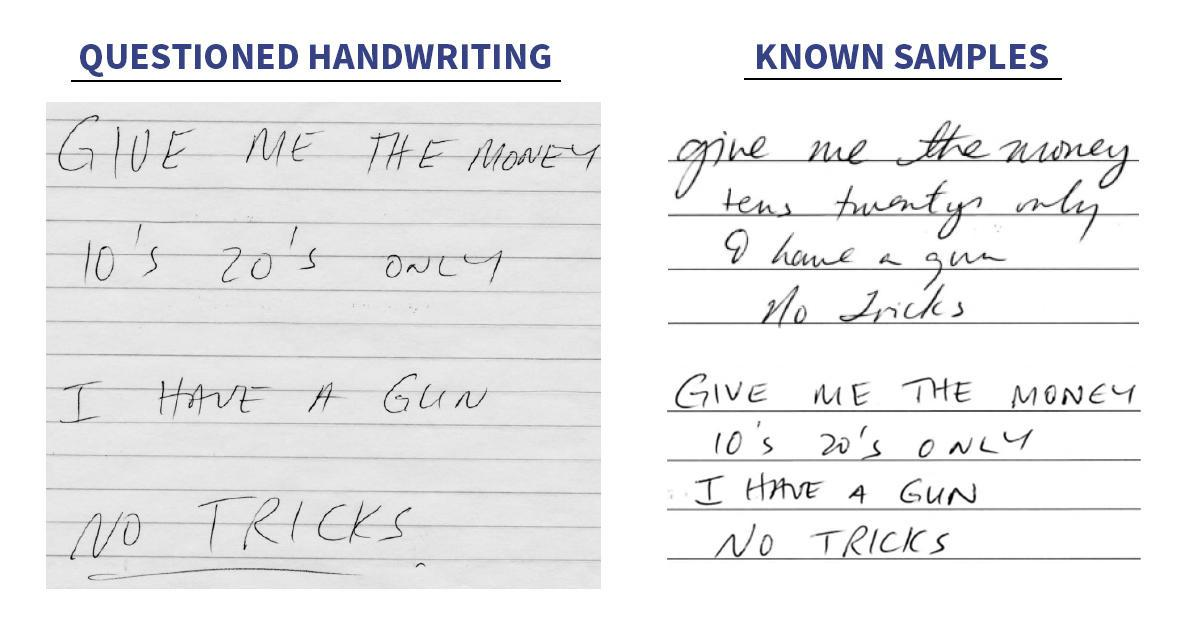text: (669, 117, 1132, 200), (53, 112, 602, 181), (78, 221, 506, 294), (65, 492, 430, 571), (721, 174, 1104, 242), (55, 369, 491, 427), (671, 369, 1139, 413), (718, 226, 1008, 294), (75, 38, 554, 78), (712, 418, 1036, 464), (692, 471, 980, 509), (759, 281, 968, 333), (753, 39, 1051, 74), (712, 522, 954, 563)
